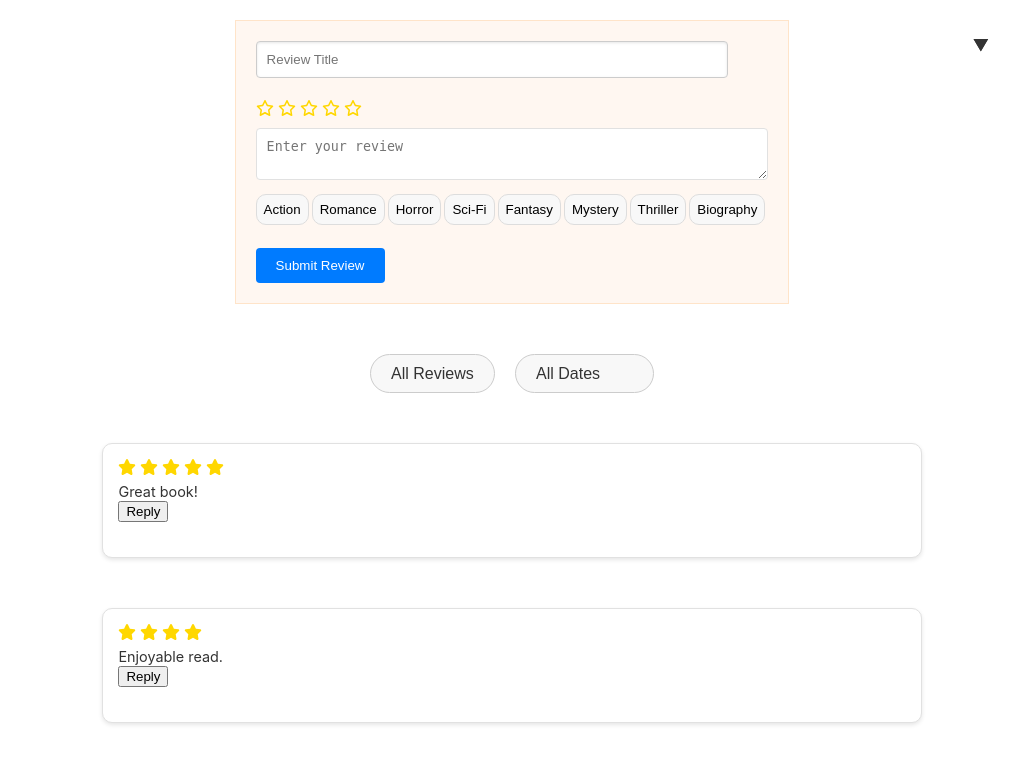
it: ReviewsList › filters reviews based on star rating
The image size is (1024, 768).
Change the select value to filter for 5-star reviews
Select "5 Stars" in the 1st dropdown at (432, 374), box [370,354,495,393]
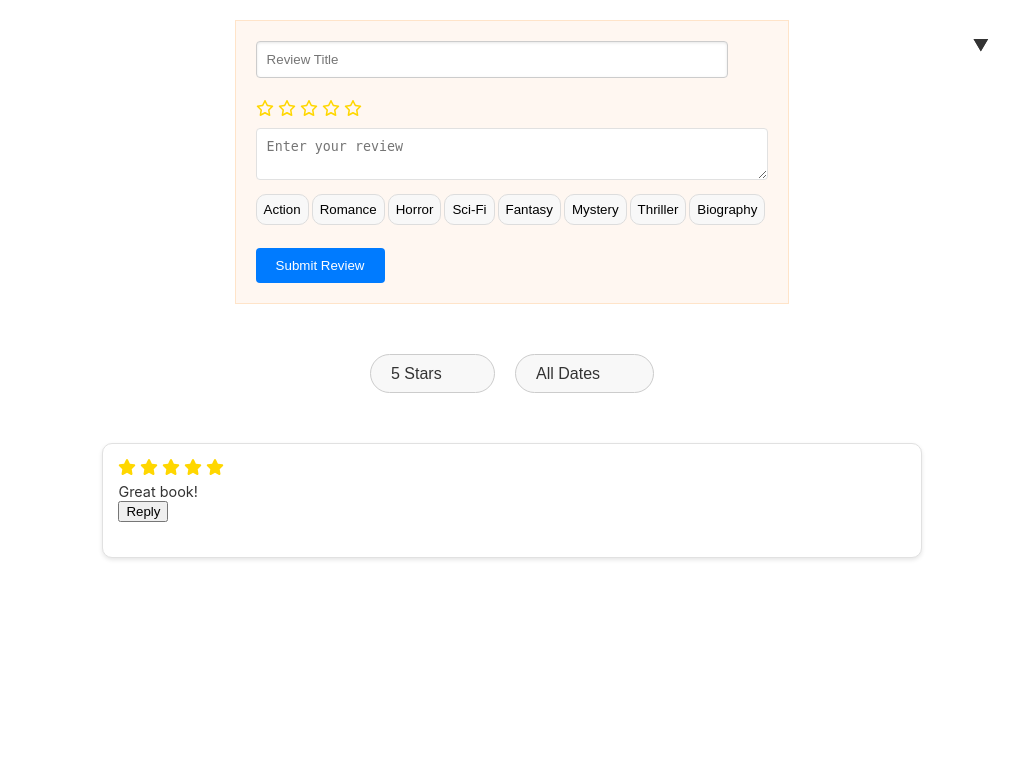
expect the text "Great book!" is shown: met, box [118,483,198,500]
expect the text "Enjoyable read." is gone: met
